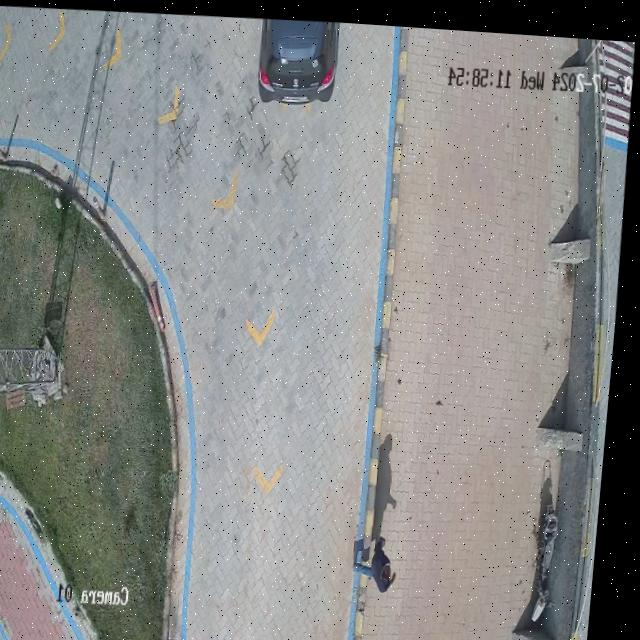car: (258, 15, 339, 101)
